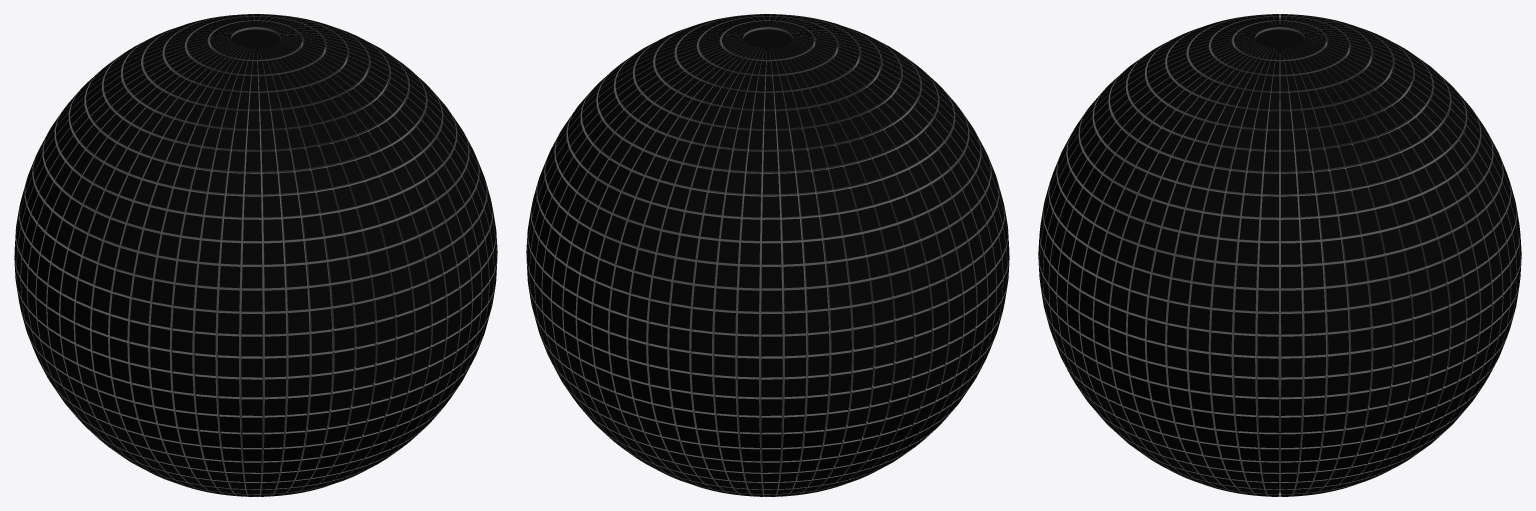
File: Splitball.glb
3 renders of one model, left to right at view 1: azimuth 30°, elevation 25°; view 2: azimuth 150°, elevation 25°; view 3: azimuth 270°, elevation 25°, orthographic.
Parts seen in each view (by area): view 1: node_id39, node_id36, mesh_id46; view 2: node_id39, node_id36, mesh_id46; view 3: node_id39, node_id36, mesh_id46.
Boxes of the visible parts, x1,y1,x2,y2 form: node_id39: [14, 14, 497, 496]; node_id36: [14, 14, 497, 496]; mesh_id46: [231, 29, 280, 50]; node_id39: [526, 14, 1009, 496]; node_id36: [526, 14, 1009, 496]; mesh_id46: [743, 29, 792, 50]; node_id39: [1038, 14, 1521, 496]; node_id36: [1038, 14, 1521, 496]; mesh_id46: [1255, 29, 1304, 48].
Bounding box in the file's own units: 0.512 × 0.5094 × 0.512.
Materials: 3 (3 with a texture image).
